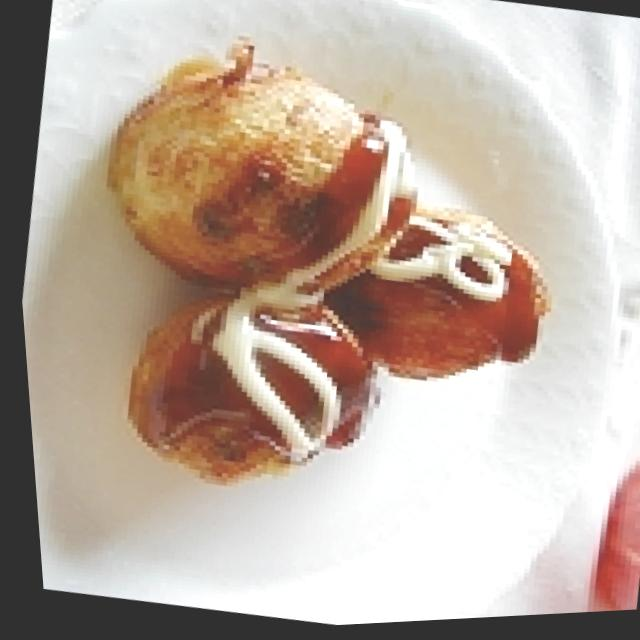炸货点心: (31, 0, 609, 557)
